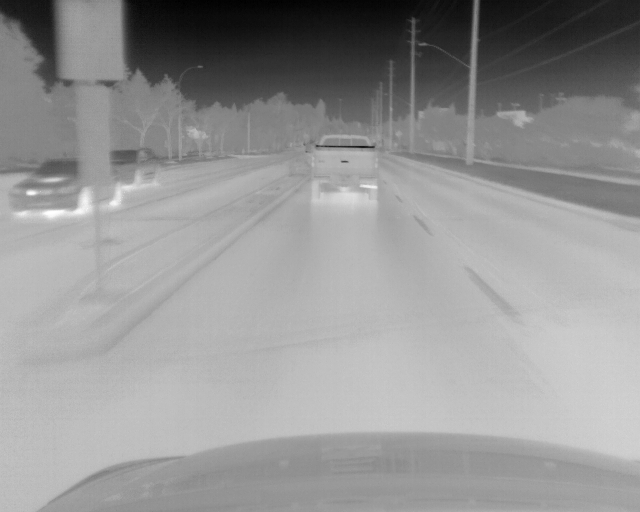car: (8, 156, 122, 215), (310, 132, 379, 201), (106, 144, 160, 189)
